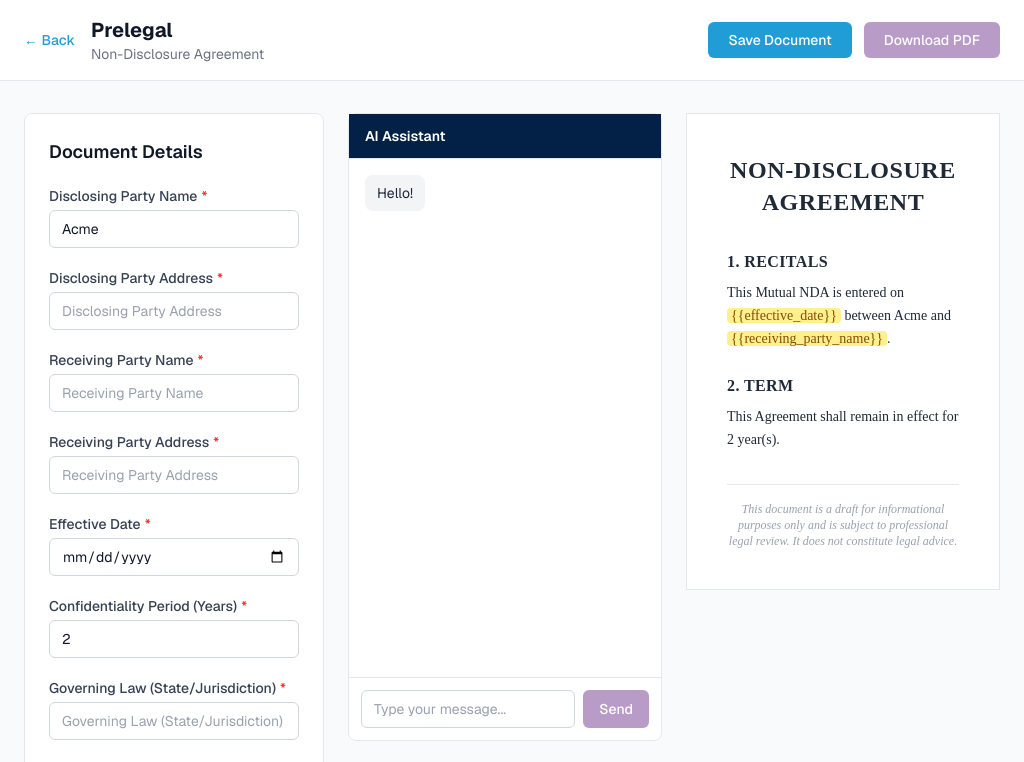
Test: DocumentPage › updates an existing document when savedDoc is provided
Step 1. Click the button "Save Document" → (780, 40), box x1=708 y1=22 x2=852 y2=58
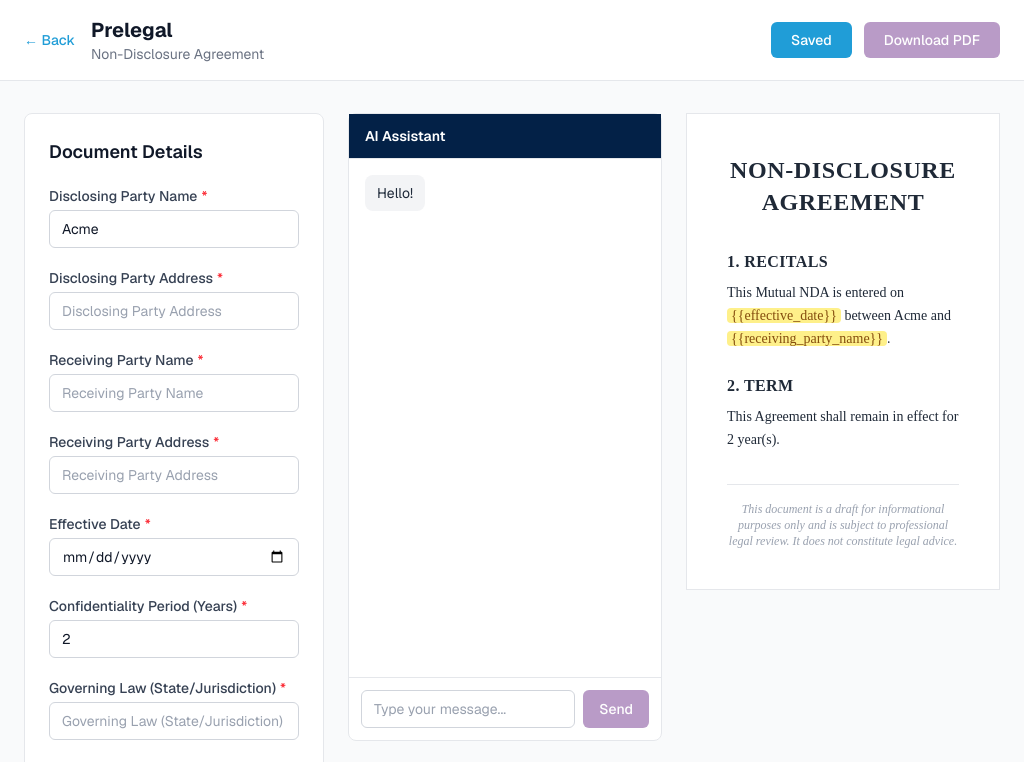
Result: the button "Saved" is shown at x1=771 y1=22 x2=852 y2=58
